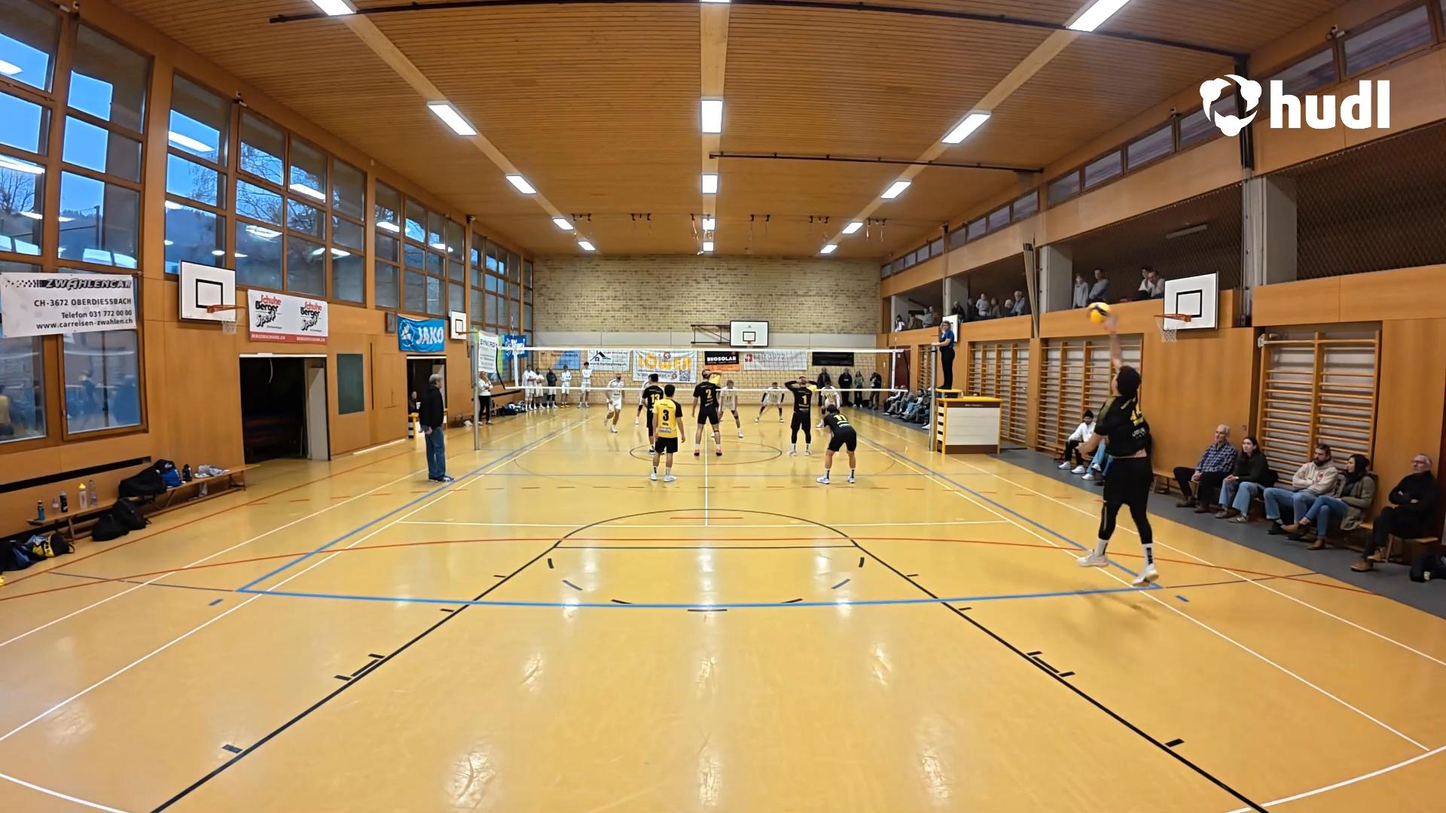Player: (647, 385, 682, 484), (818, 404, 860, 486), (690, 367, 726, 461), (786, 377, 816, 455), (638, 371, 665, 454), (716, 376, 745, 436), (603, 376, 627, 441), (816, 375, 842, 428), (757, 376, 785, 422)
Serve: (1077, 305, 1162, 588)
ball: (1088, 303, 1112, 324)
